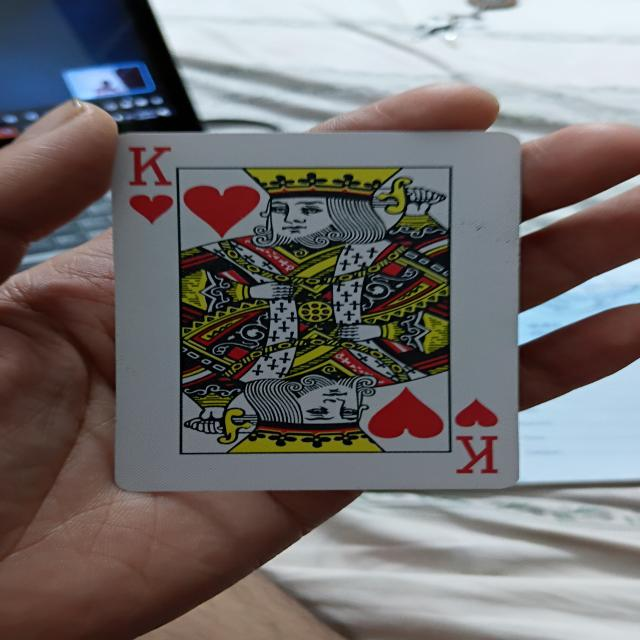KH: (109, 130, 524, 488)
